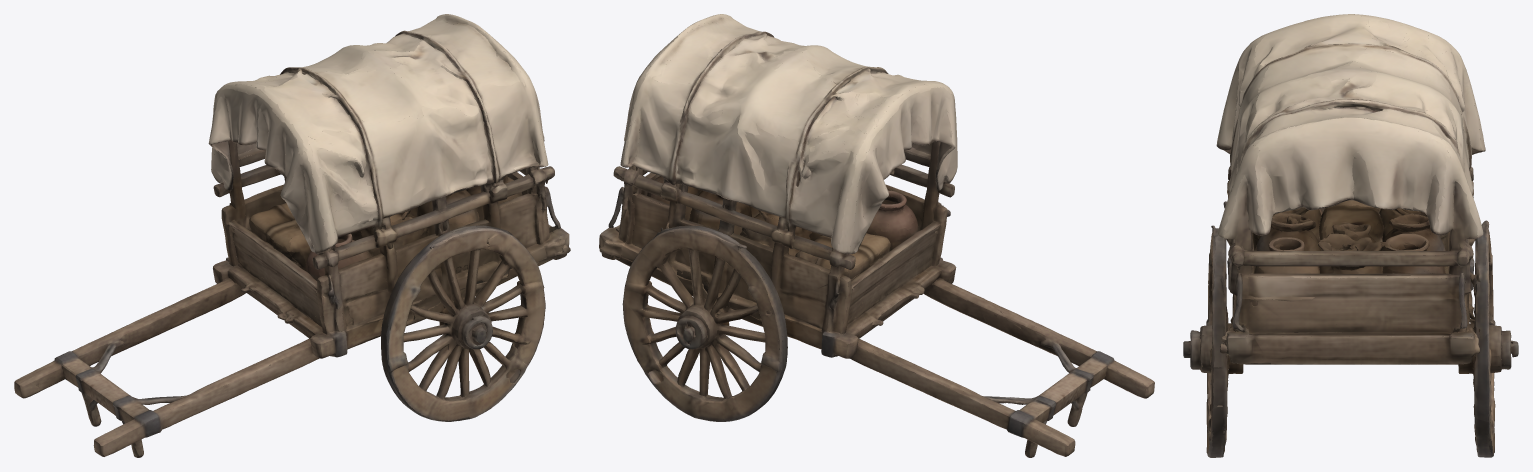
Rendered from cargo-cart.glb.
The picture shows the model from 3 angles, left to right: view 1: azimuth 30°, elevation 25°; view 2: azimuth 150°, elevation 25°; view 3: azimuth 270°, elevation 25°; orthographic projection. The views are drawn at different scales.
Visible parts, largest first — view 1: world; view 2: world; view 3: world.
Part boxes in pixels (bbox=[...]): world: bbox=[14, 14, 570, 457]; world: bbox=[599, 14, 1154, 457]; world: bbox=[1183, 14, 1518, 457].
Size of the model in its own units: 2.8 by 1.92 by 1.56.
Materials: 1 (1 with a texture image).
